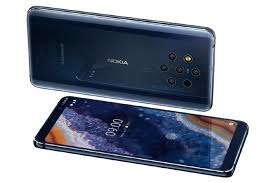nokia: (25, 3, 217, 114), (30, 94, 248, 183)
